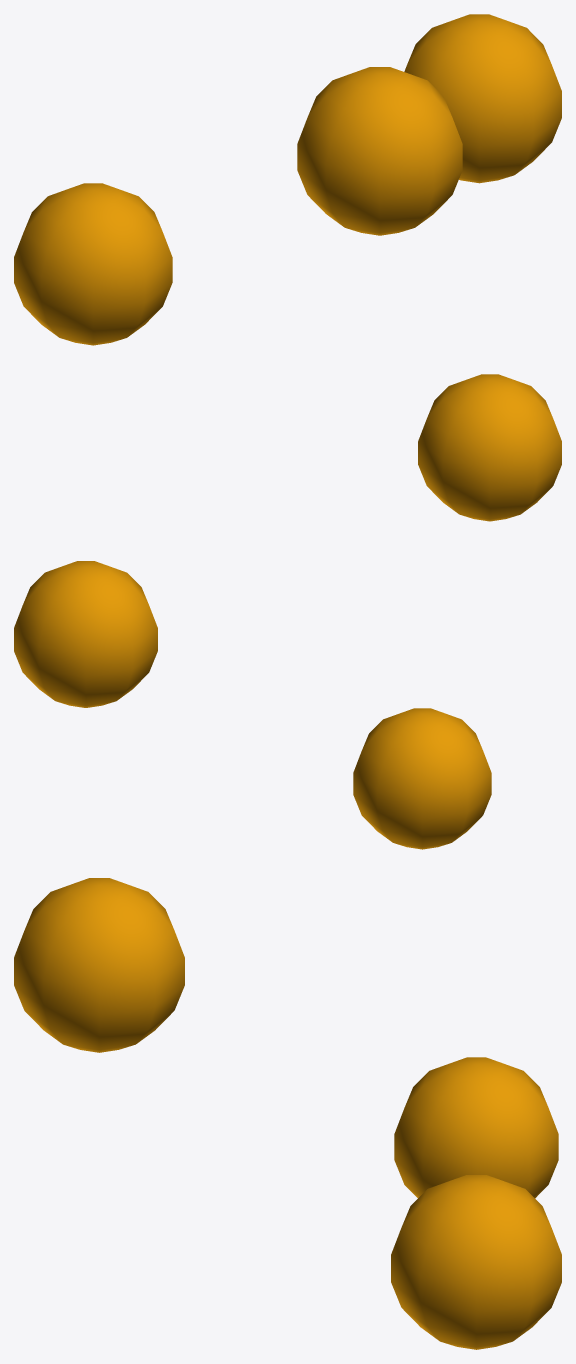
File: light_glow.dae
3 renders of one model, top to bottom at view 1: azimuth 30°, elevation 25°; view 2: azimuth 150°, elevation 25°; view 3: azimuth 270°, elevation 25°, orthographic. The views are drawn at different scales.
Visible parts, largest first — view 1: node-00AA818A, node-024BD581, node-01FE8DE1; view 2: node-00AA818A, node-01FE8DE1, node-024BD581; view 3: node-01FE8DE1, node-00AA818A, node-024BD581.
Part boxes in pixels (left/top/right/bottom): node-00AA818A: left=297, top=67, right=462, bottom=235; node-024BD581: left=14, top=183, right=172, bottom=345; node-01FE8DE1: left=404, top=14, right=561, bottom=183; node-00AA818A: left=418, top=374, right=561, bottom=521; node-01FE8DE1: left=14, top=561, right=157, bottom=707; node-024BD581: left=353, top=708, right=491, bottom=849; node-01FE8DE1: left=391, top=1175, right=561, bottom=1349; node-00AA818A: left=14, top=878, right=184, bottom=1052; node-024BD581: left=394, top=1057, right=558, bottom=1198.
Bounding box in the file's own units: 1.79 × 1.57 × 1.22.
1 material, 1 textured.
